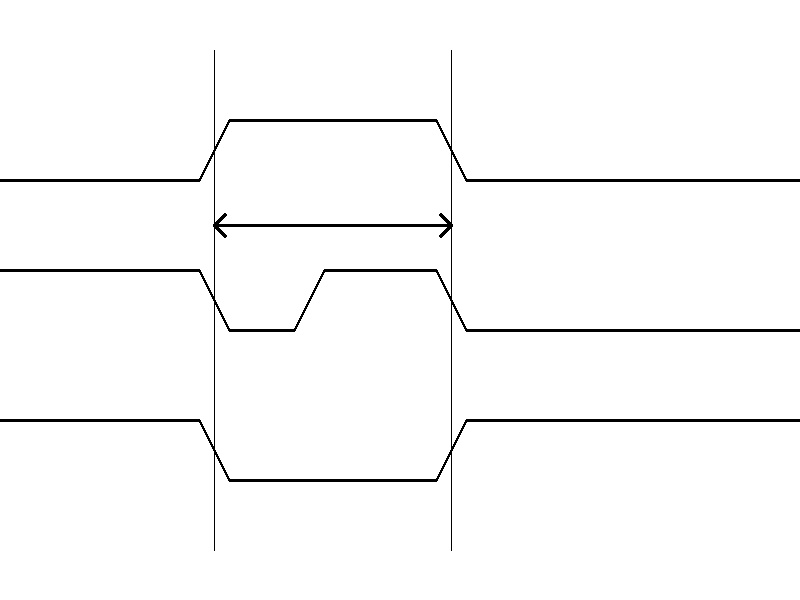double_arrow: (214, 210, 451, 240)
